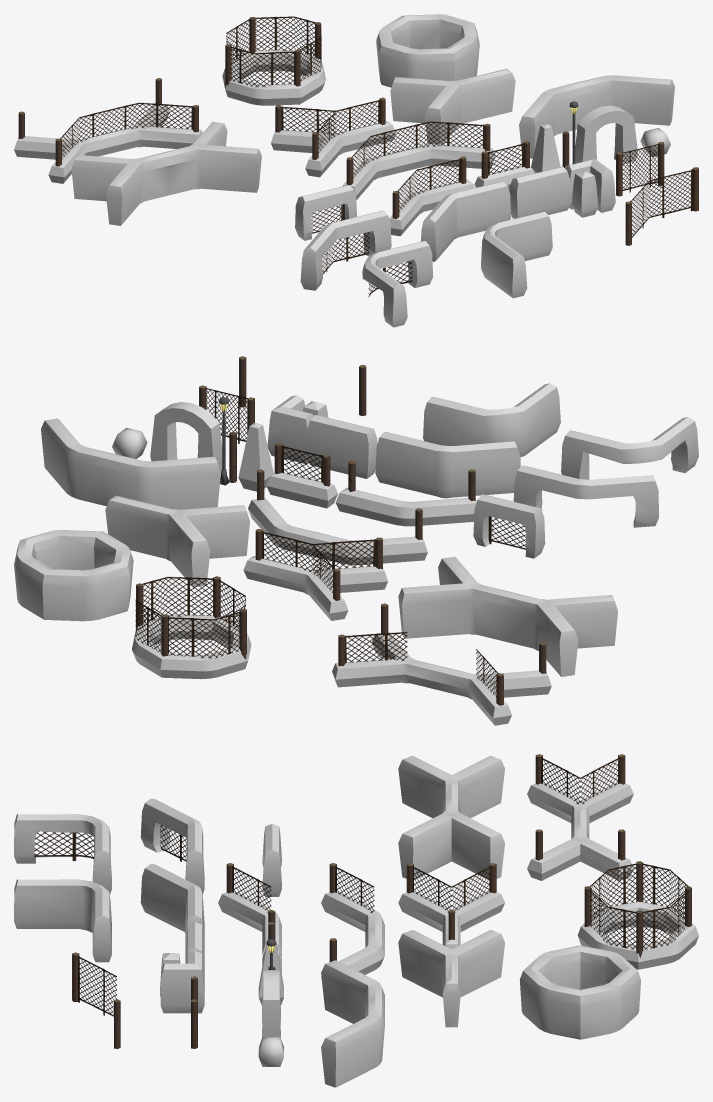
Rendered from Hedges 'n Fences.glb.
The picture shows the model from 3 angles, top to bottom: view 1: azimuth 30°, elevation 25°; view 2: azimuth 150°, elevation 25°; view 3: azimuth 270°, elevation 25°; orthographic projection. The views are drawn at different scales.
Parts seen in each view (by area): view 1: HedgeXTall, HedgeOTall, HedgeHalfTall, HedgeYTall, HedgeX, WoodFenceO, HedgeLongTall90, HedgeRoundTall, HedgeO, HedgeLongTall90Hole, HedgeHalf, HedgeRoundTallHole (+18 smaller); view 2: HedgeXTall, HedgeOTall, HedgeHalfTall, HedgeYTall, HedgeRoundTall, HedgeX, HedgeLongTall90, WoodFenceO, HedgeO, HedgeLongTall90Hole, HedgeHalf, HedgeRoundTallHole (+15 smaller); view 3: HedgeXTall, HedgeOTall, HedgeHalfTall, HedgeYTall, WoodFenceO, HedgeX, HedgeLongTall90, HedgeO, HedgeLongTall90Hole, HedgeRoundTall, HedgeRoundTallHole, HedgeY (+14 smaller).
Part boxes in pixels (bbox=[...]): HedgeXTall: bbox=[71, 121, 261, 225]; HedgeOTall: bbox=[376, 14, 479, 87]; HedgeHalfTall: bbox=[519, 75, 674, 158]; HedgeYTall: bbox=[390, 68, 515, 144]; HedgeX: bbox=[14, 102, 202, 183]; WoodFenceO: bbox=[225, 16, 321, 87]; HedgeLongTall90: bbox=[481, 211, 552, 298]; HedgeRoundTall: bbox=[421, 181, 511, 261]; HedgeO: bbox=[222, 49, 325, 105]; HedgeLongTall90Hole: bbox=[362, 241, 433, 327]; HedgeHalf: bbox=[342, 144, 495, 199]; HedgeRoundTallHole: bbox=[300, 210, 391, 290]; HedgeXTall: bbox=[398, 556, 617, 676]; HedgeOTall: bbox=[14, 530, 133, 621]; HedgeHalfTall: bbox=[41, 418, 220, 509]; HedgeYTall: bbox=[105, 495, 249, 586]; HedgeRoundTall: bbox=[375, 431, 520, 498]; HedgeX: bbox=[332, 631, 551, 725]; HedgeLongTall90: bbox=[423, 383, 560, 456]; WoodFenceO: bbox=[135, 576, 246, 659]; HedgeO: bbox=[132, 614, 251, 679]; HedgeLongTall90Hole: bbox=[561, 417, 698, 479]; HedgeHalf: bbox=[248, 498, 427, 565]; HedgeRoundTallHole: bbox=[513, 465, 658, 527]; HedgeXTall: bbox=[398, 755, 504, 880]; HedgeOTall: bbox=[520, 945, 640, 1039]; HedgeHalfTall: bbox=[321, 960, 384, 1087]; HedgeYTall: bbox=[398, 930, 504, 1027]; WoodFenceO: bbox=[584, 861, 691, 957]; HedgeX: bbox=[527, 782, 633, 880]; HedgeLongTall90: bbox=[14, 879, 111, 962]; HedgeO: bbox=[577, 901, 698, 969]; HedgeLongTall90Hole: bbox=[14, 814, 111, 894]; HedgeRoundTall: bbox=[140, 863, 204, 953]; HedgeRoundTallHole: bbox=[140, 798, 204, 894]; HedgeY: bbox=[398, 891, 504, 949].
Size of the model in its own units: 26.83 by 3.55 by 26.6.
4 materials, 2 textured.
